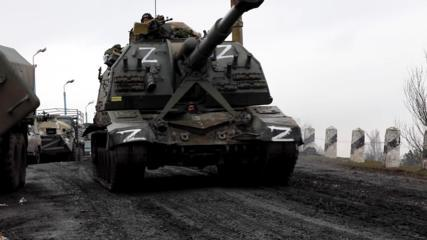sau: (97, 6, 300, 189)
tank: (40, 118, 74, 166)
truck: (0, 42, 41, 193)
